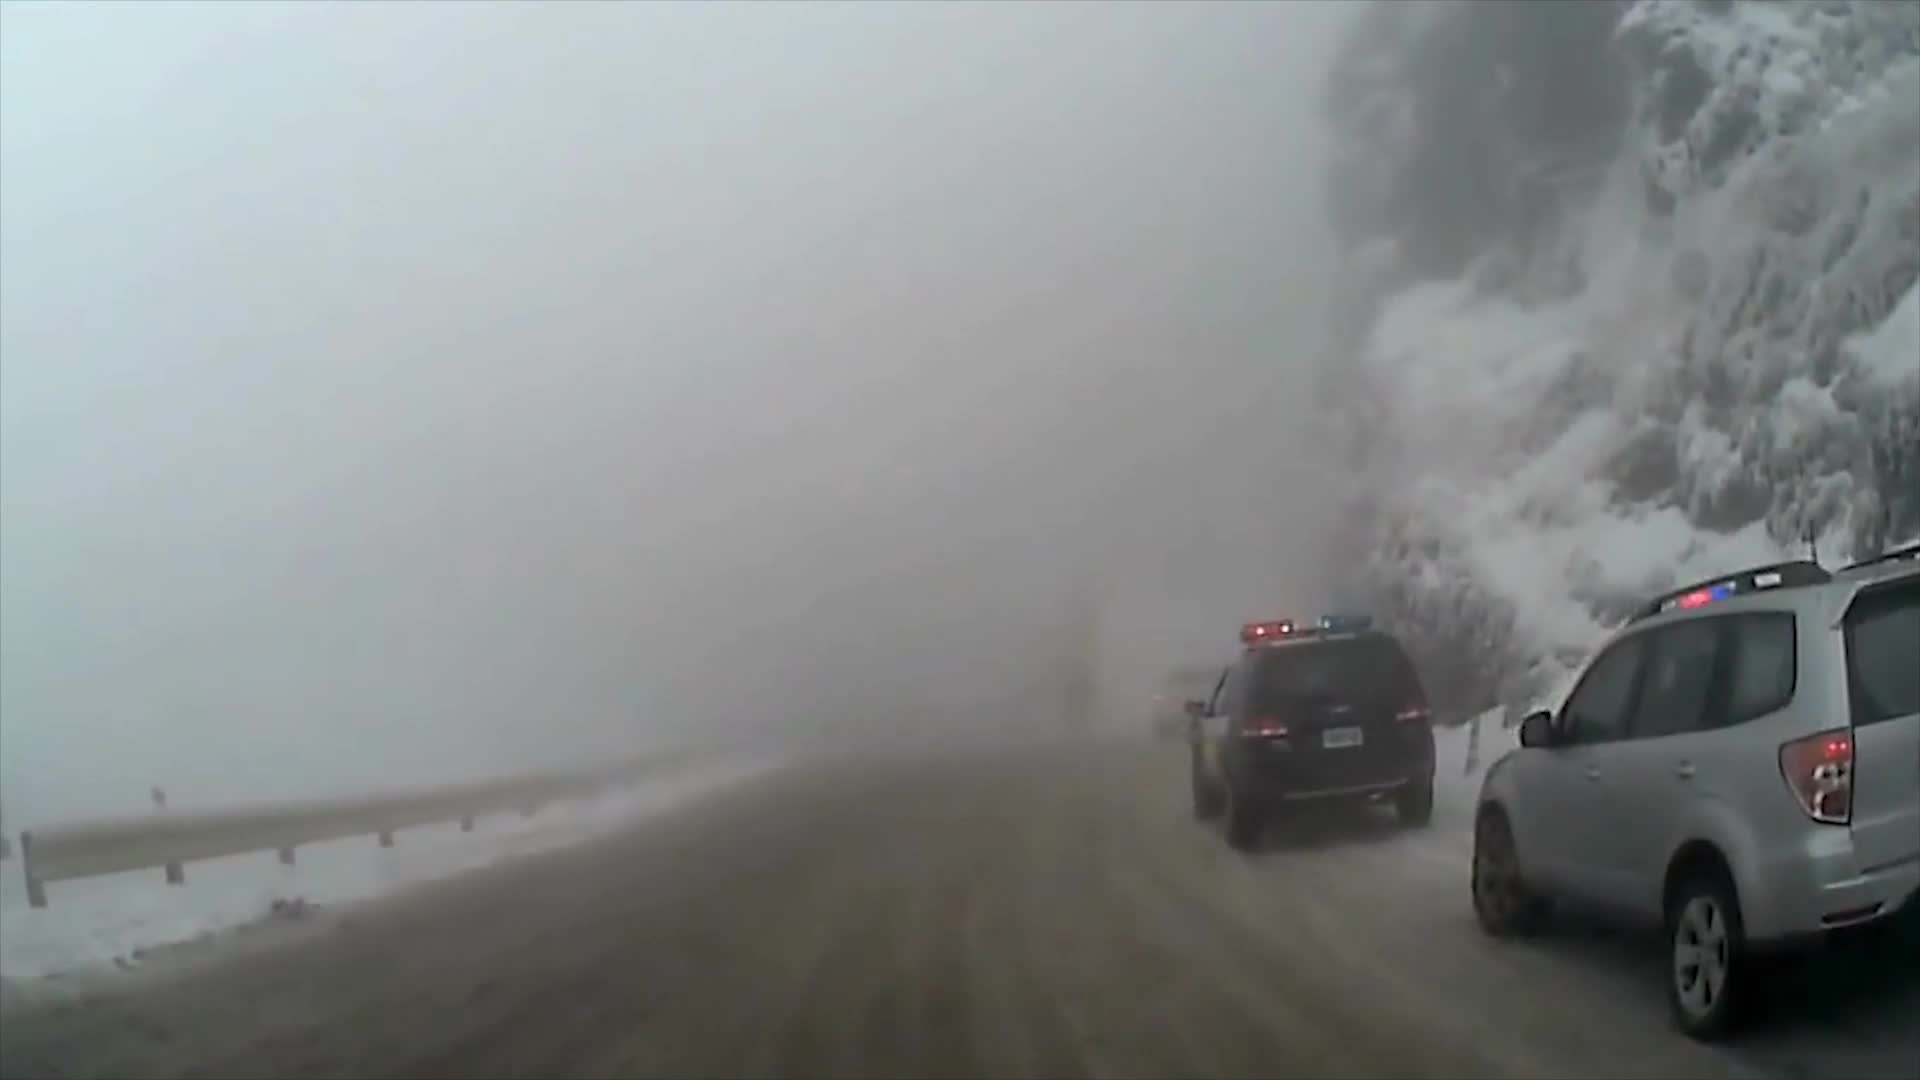vehicle: (1470, 534, 1920, 1038), (1182, 605, 1437, 847)
